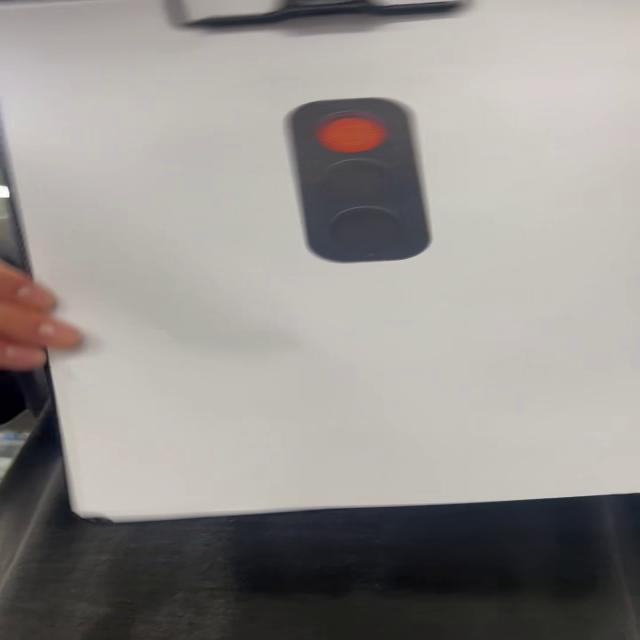red: (286, 98, 435, 266)
